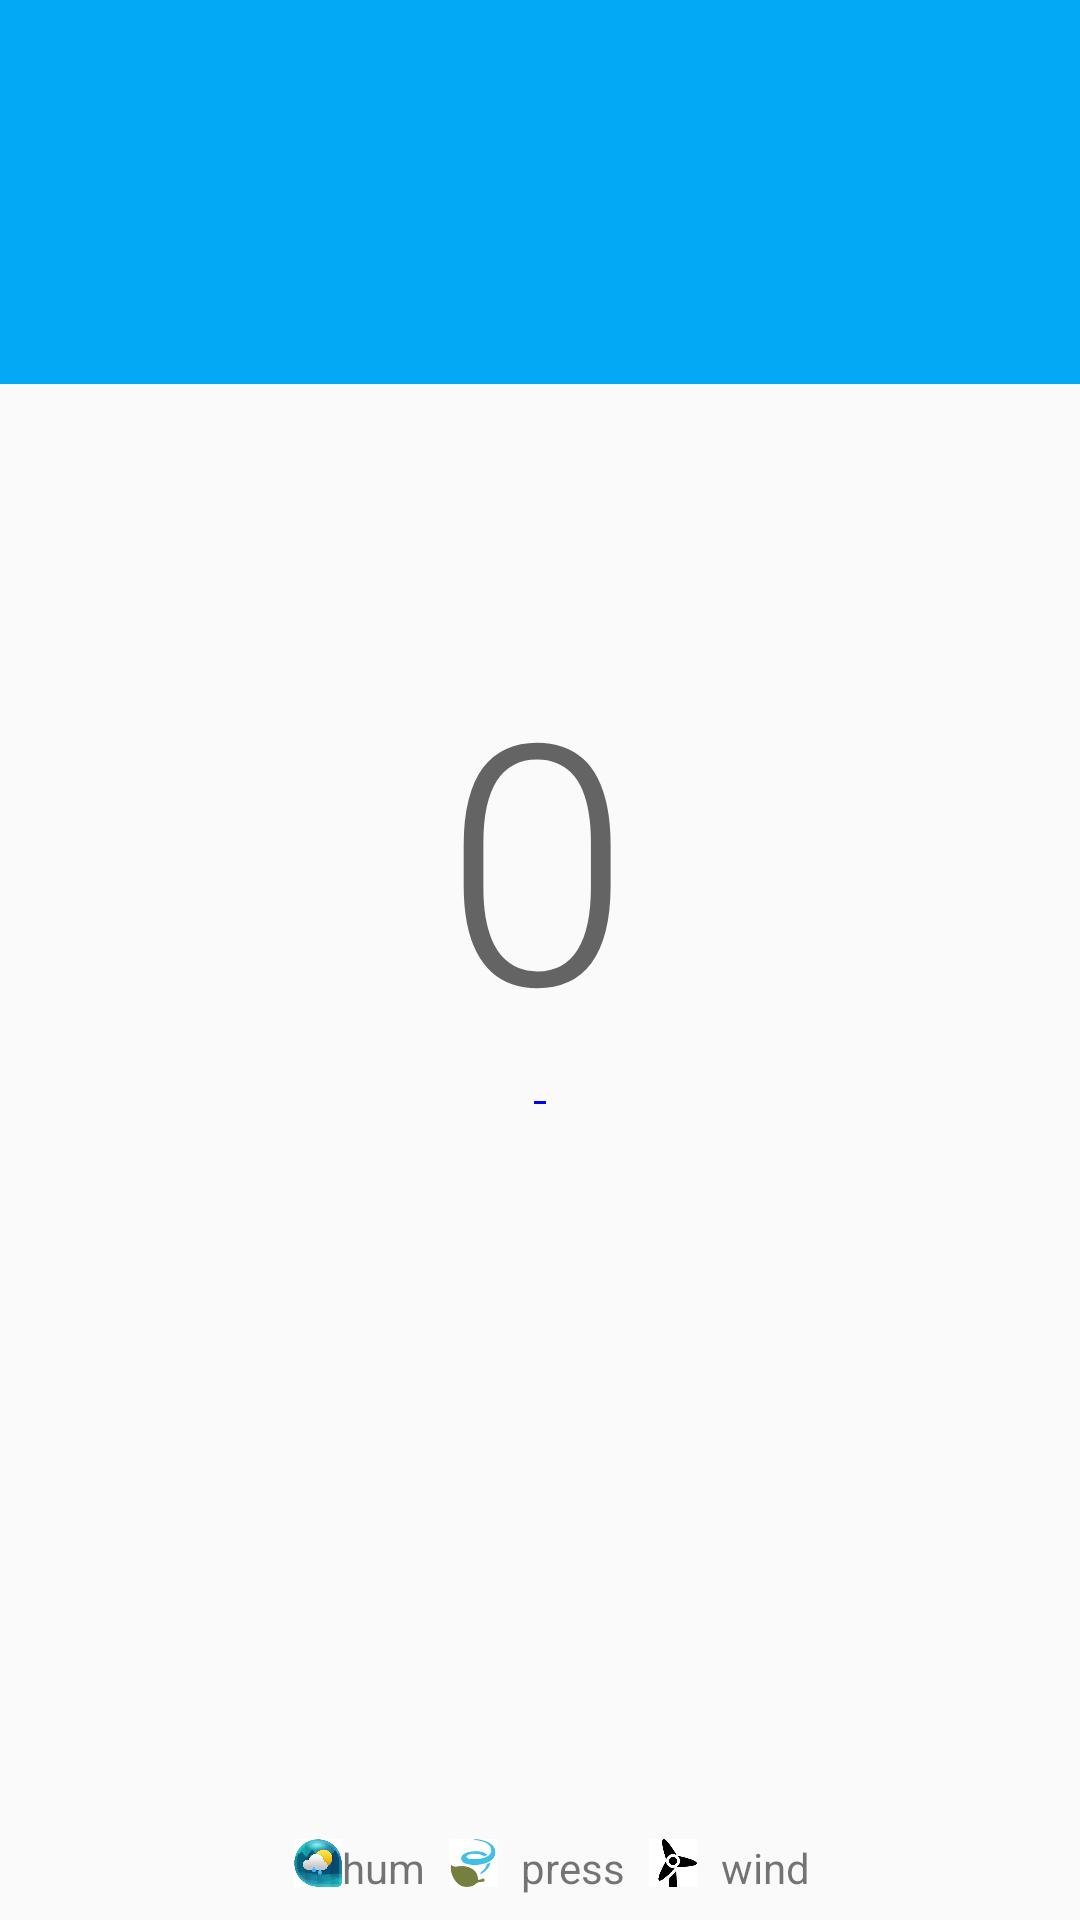

Screen size 1080px x 1920px. Icon name, then its center in pixels as point (x, y):
humidity: point (318, 1863)
